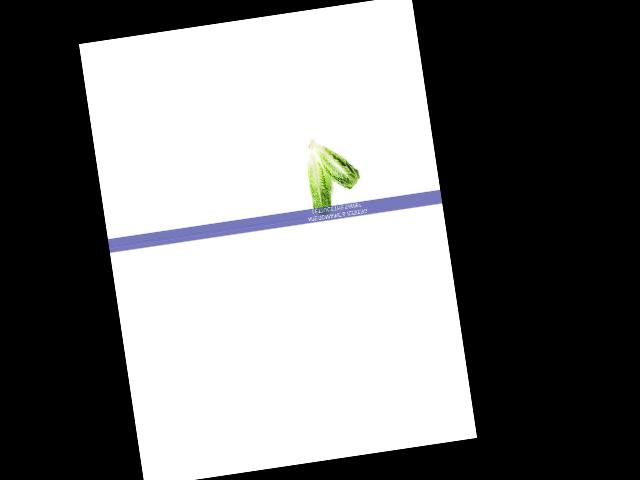lettuce: (306, 127, 359, 197)
